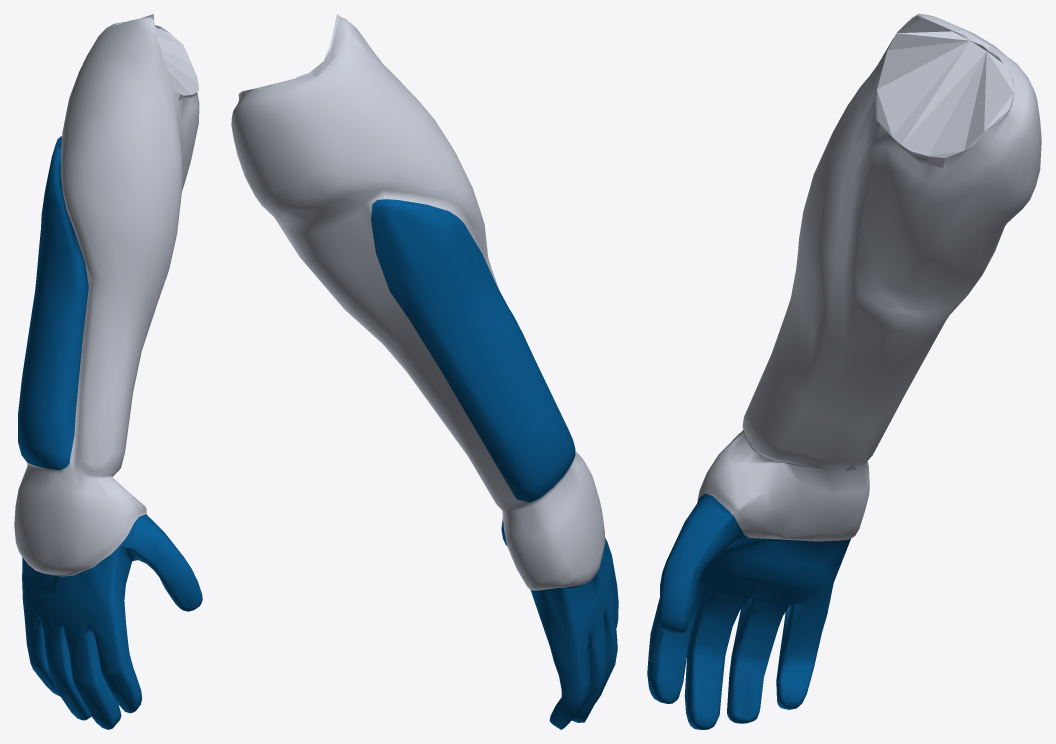
File: right_hands.fbx
The picture shows the model from 3 angles, left to right: view 1: azimuth 30°, elevation 25°; view 2: azimuth 150°, elevation 25°; view 3: azimuth 270°, elevation 25°; orthographic projection. The views are drawn at different scales.
Parts seen in each view (by area): view 1: right_hand; view 2: right_hand; view 3: right_hand.
Part boxes in pixels (x1,y1,x2,y2): right_hand: [14, 14, 202, 729]; right_hand: [231, 14, 618, 729]; right_hand: [647, 14, 1041, 729].
Bounding box in the file's own units: 2102 × 5431 × 2440.
